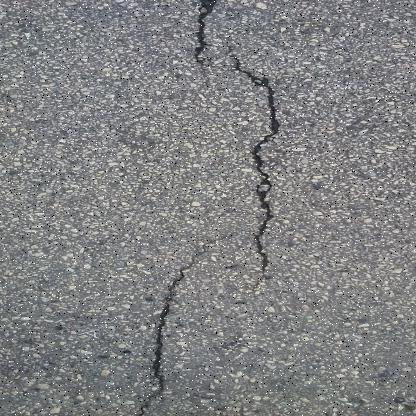Cracks: (224, 54, 298, 275), (127, 249, 223, 415), (181, 0, 234, 82)
